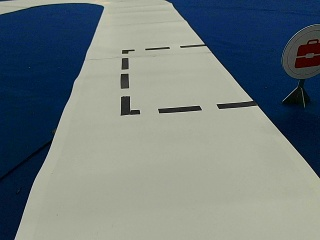company: (282, 24, 319, 77)
